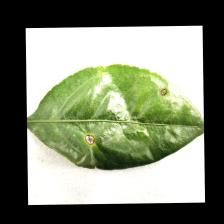greening: (74, 91, 183, 153)
